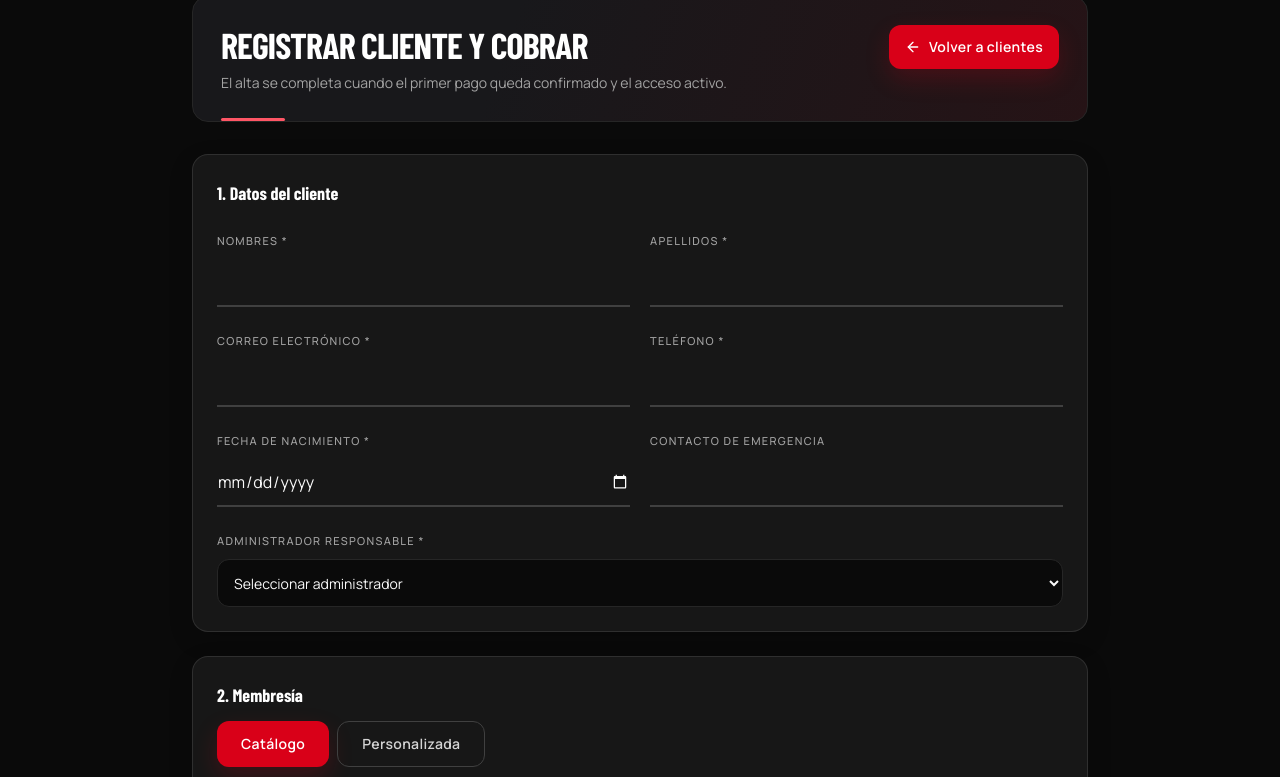
Test case: NewMemberPage › muestra campos comerciales al elegir membresía personalizada
Click the button with test id "membership-custom" at (411, 744), box [337,721,486,767]
(page scrolled)
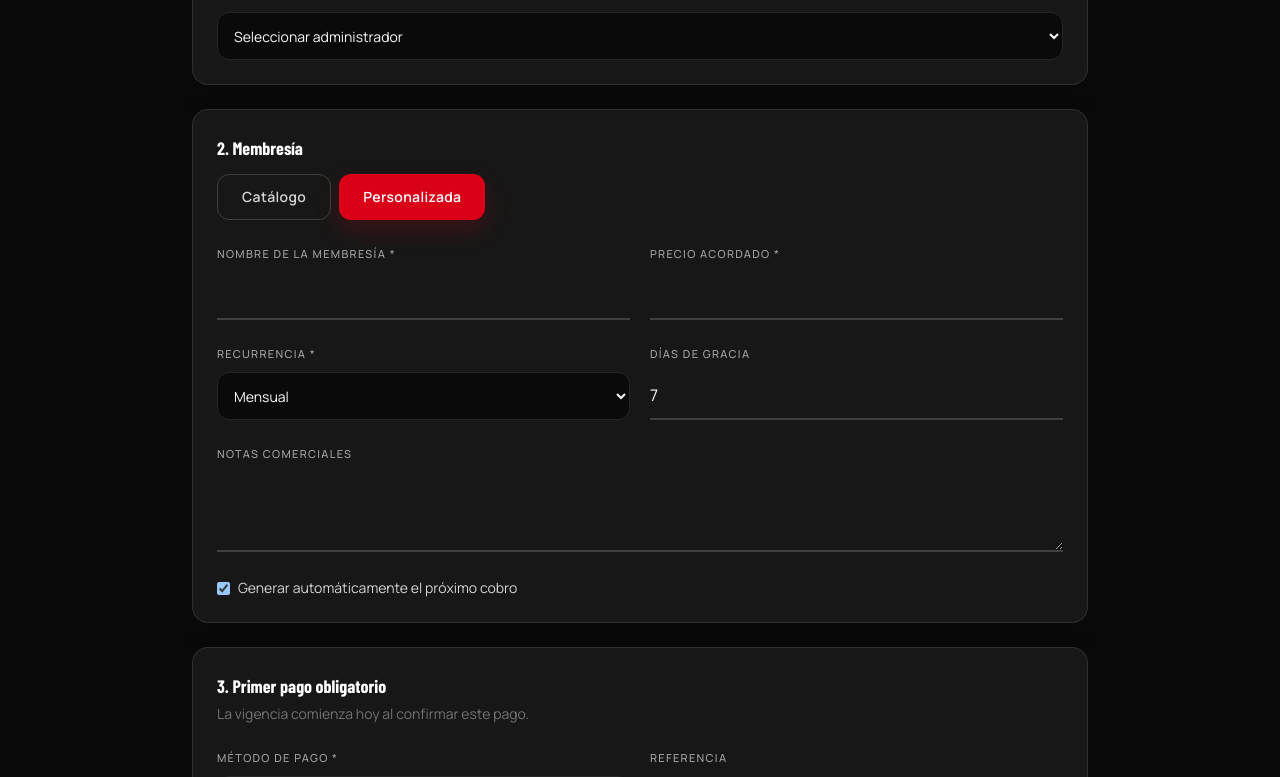
Expected: the field with test id "custom-membership-name" is shown, [217,272,630,320]
Expected: the number field with test id "agreed-price" is shown, [650,272,1063,320]
Expected: the dropdown with test id "custom-membership-recurrence" shows "Mensual", [217,372,630,420]
